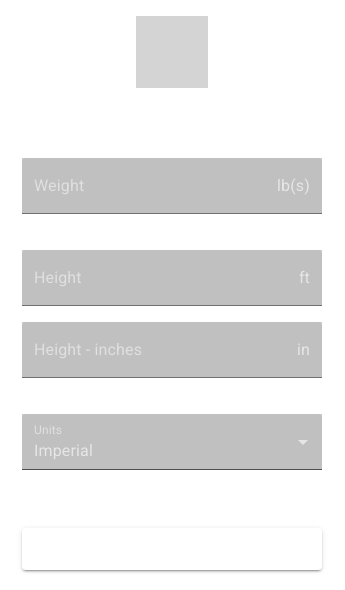
Test case: rerenders height with updated value after switch units
Expected: the field with test id "Weight" is empty, [22, 158, 269, 214]
// type 1000 into height text field
Type "1000" into the field with test id "Height".
click(156, 278); type("1000")  # box [22, 250, 291, 306]
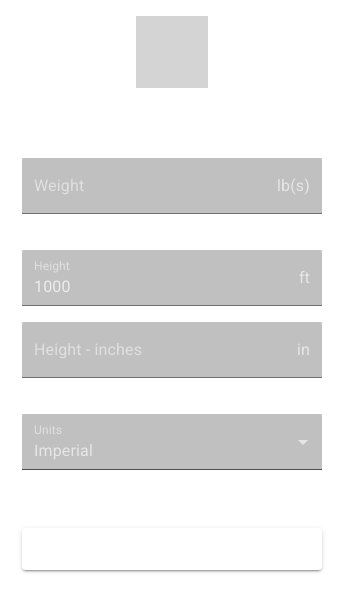
Expected: the field with test id "Weight" is empty, [22, 158, 269, 214]
// select metric in the units dropdown
Press the mouse on the dropdown labelled "Imperial" at (64, 450), box [34, 441, 93, 460]
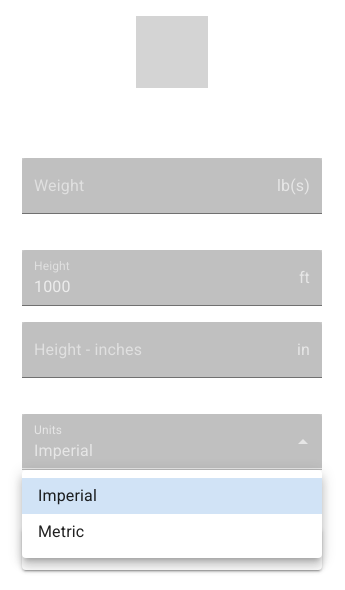
Click the option "Metric".
click(61, 532)  # box [38, 522, 84, 541]
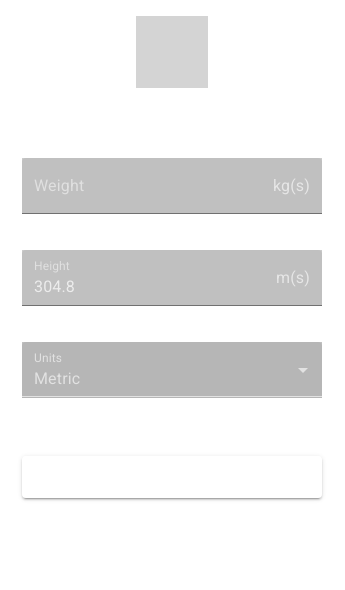
Expected: the field with test id "Weight" is empty, [22, 158, 265, 214]
Expected: the field with test id "Height" holds "304.8", [22, 250, 268, 306]
